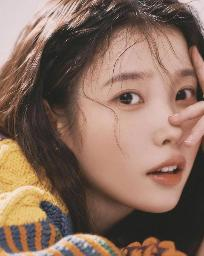face: (74, 31, 202, 211)
